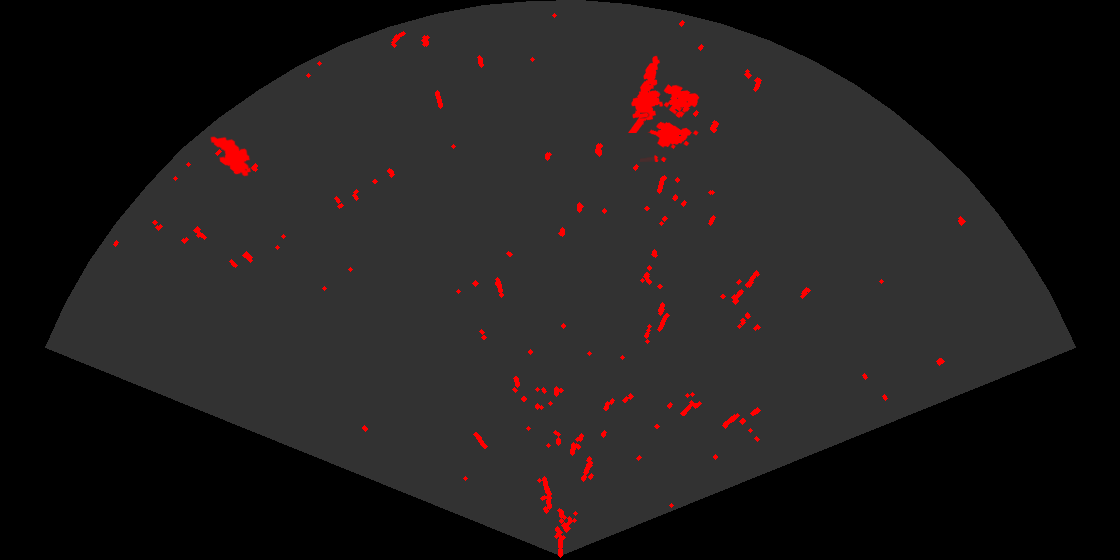AUV: (209, 135, 253, 178)
cage: (640, 83, 701, 162)
frogman: (627, 54, 665, 133)
